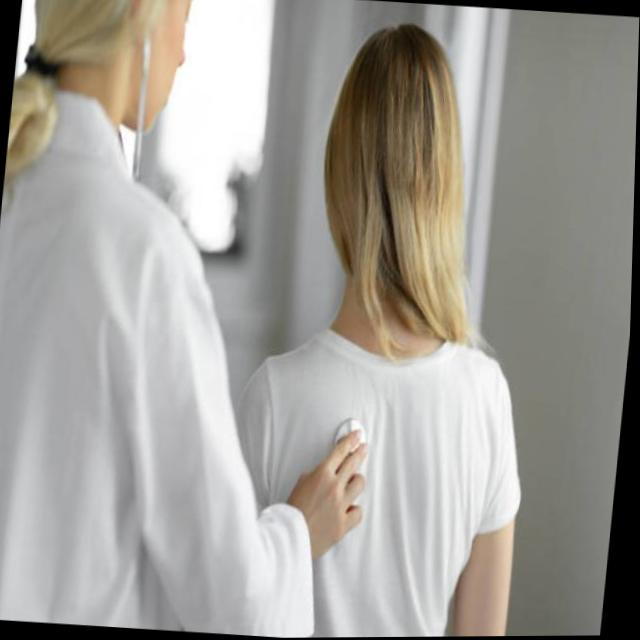no helmet: (304, 20, 504, 359)
